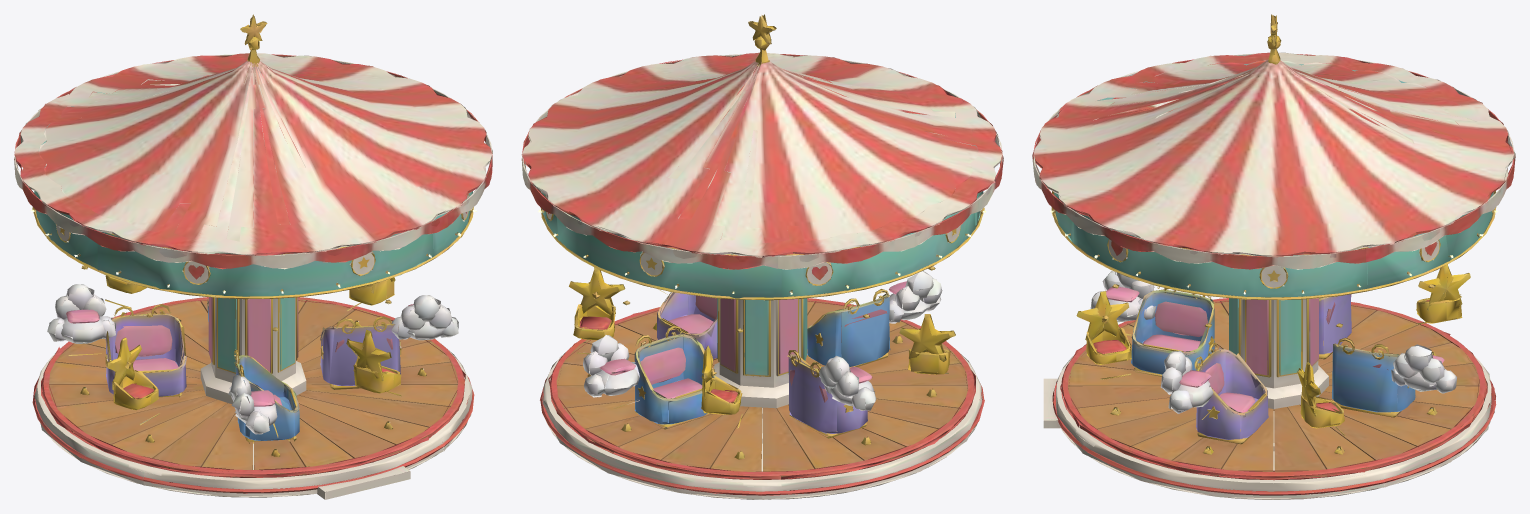
The model's file is tiovivo.glb.
3 views of the same model, side by side, from view 1: azimuth 30°, elevation 25°; view 2: azimuth 150°, elevation 25°; view 3: azimuth 270°, elevation 25° (orthographic).
Parts seen in each view (by area): view 1: carousel_body; view 2: carousel_body; view 3: carousel_body.
Part boxes in pixels (x1,y1,x2,y2): carousel_body: (14, 14, 492, 499); carousel_body: (521, 14, 1003, 499); carousel_body: (1032, 14, 1515, 499).
Bounding box in the file's own units: 7.2 × 6.46 × 7.2.
Materials: 3 (2 with a texture image).
